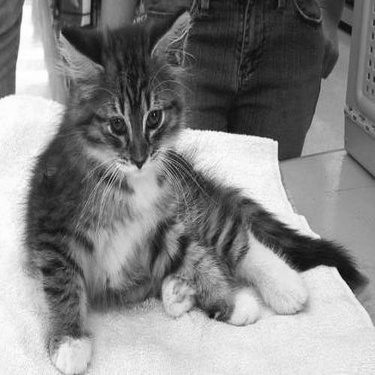cat: (27, 10, 366, 370)
